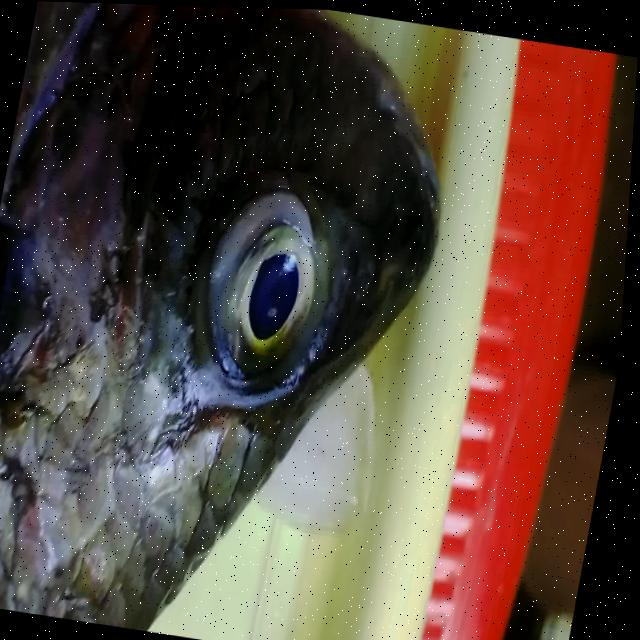Fresh: (173, 138, 359, 442)
